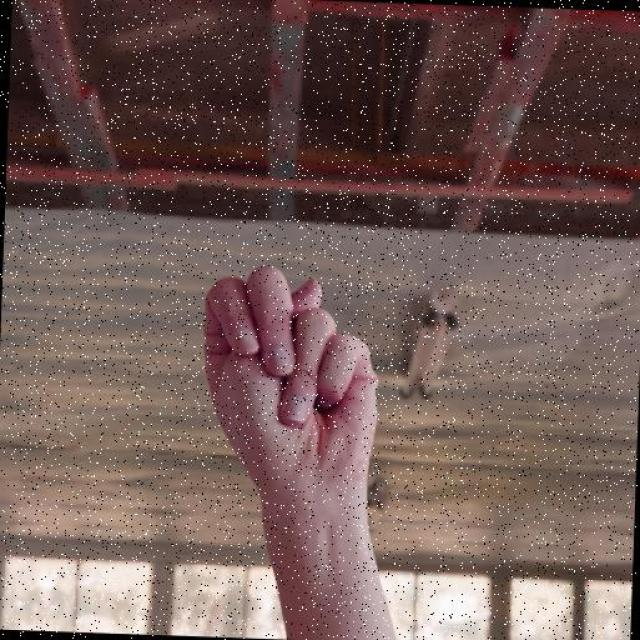N: (192, 259, 388, 482)
